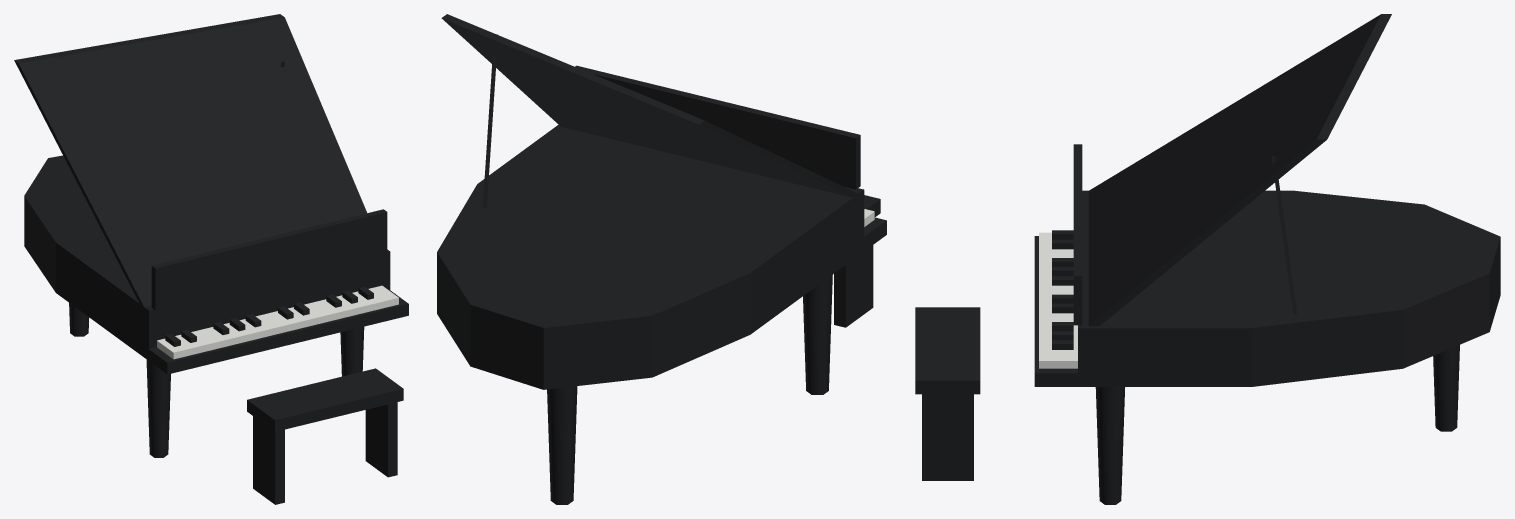
File: grand_piano.glb
The picture shows the model from 3 angles, left to right: view 1: azimuth 30°, elevation 25°; view 2: azimuth 150°, elevation 25°; view 3: azimuth 270°, elevation 25°; orthographic projection. The views are drawn at different scales.
Parts seen in each view (by area): view 1: grand_piano; view 2: grand_piano; view 3: grand_piano.
Part boxes in pixels (x1,y1,x2,y2): grand_piano: (14, 14, 408, 504); grand_piano: (437, 14, 886, 504); grand_piano: (915, 14, 1500, 504).
Size of the model in its own units: 1.5 by 1.9 by 2.7.
1 material, 1 textured.
